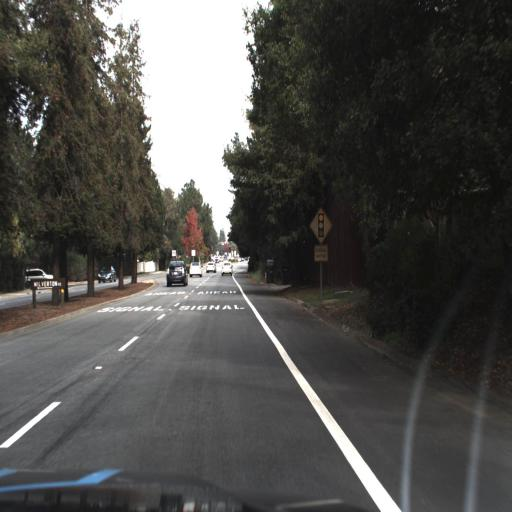car: (13, 254, 61, 295), (163, 257, 189, 291), (94, 258, 119, 290), (217, 254, 236, 282), (185, 258, 202, 280), (204, 257, 217, 277)
